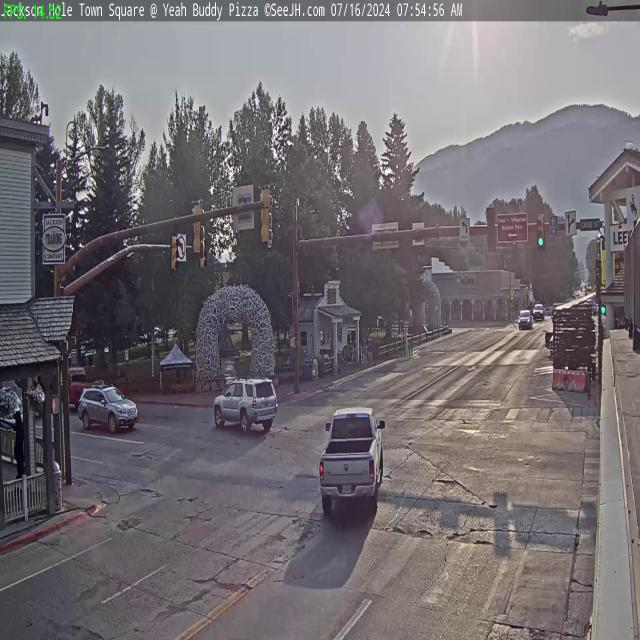pickup: (315, 400, 391, 520)
suv: (214, 374, 278, 435), (78, 385, 139, 435), (517, 309, 533, 328)
traffic light: (190, 199, 203, 256), (260, 185, 272, 244), (486, 207, 497, 252), (169, 235, 180, 272), (537, 214, 545, 248)
